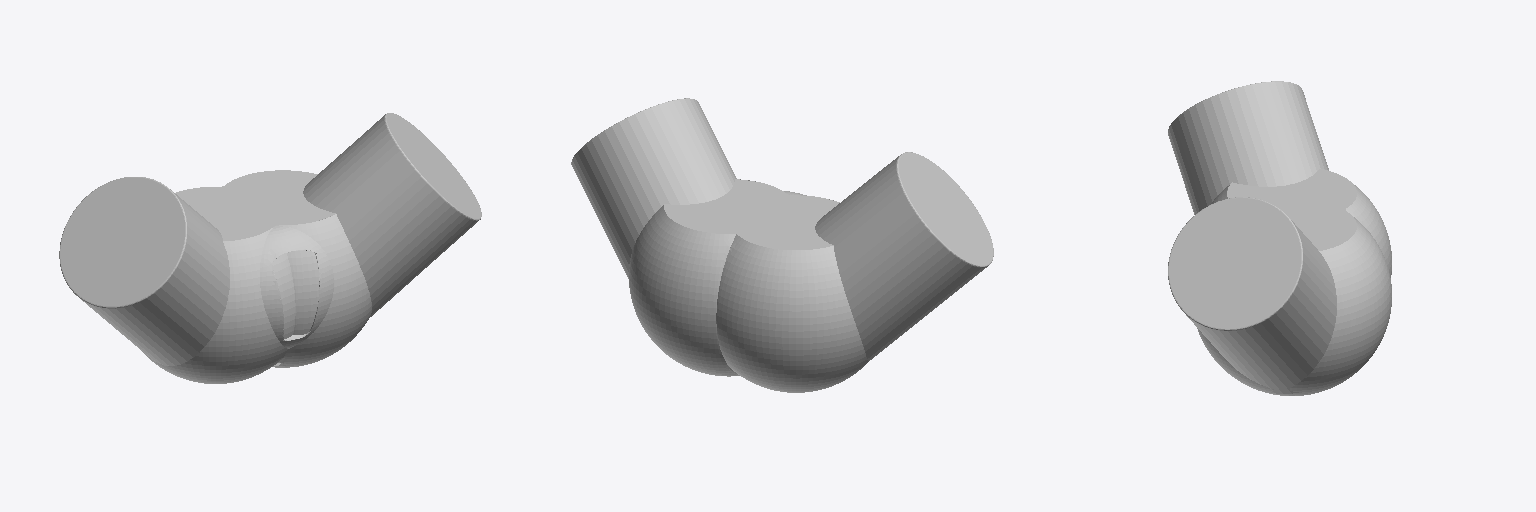
The model's file is VAGI0.obj.
3 views of the same model, side by side, from view 1: azimuth 30°, elevation 25°; view 2: azimuth 150°, elevation 25°; view 3: azimuth 270°, elevation 25° (orthographic).
Visible parts, largest first — view 1: Cylinder001; view 2: Cylinder001; view 3: Cylinder001.
Boxes of the visible parts, box(x1,y1,x2,y2) form: Cylinder001: box(59, 113, 481, 383); Cylinder001: box(571, 98, 993, 392); Cylinder001: box(1168, 81, 1391, 395).
Size of the model in its own units: 73.35 by 40.17 by 35.49.